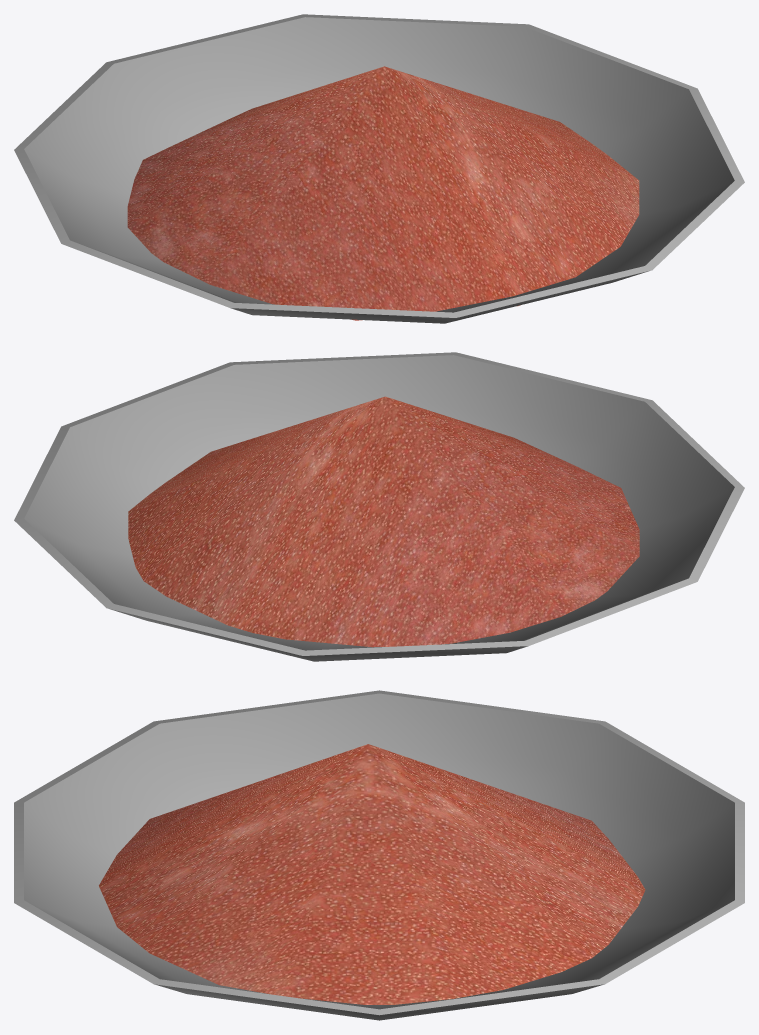
File: mercuric acid.fbx
The picture shows the model from 3 angles, top to bottom: view 1: azimuth 30°, elevation 25°; view 2: azimuth 150°, elevation 25°; view 3: azimuth 270°, elevation 25°; orthographic projection. The views are drawn at different scales.
Visible parts, largest first — view 1: pCone2, pSphere2; view 2: pCone2, pSphere2; view 3: pCone2, pSphere2.
Part boxes in pixels (box(x1,y1,x2,y2)): pCone2: box(127, 66, 639, 320); pSphere2: box(14, 14, 744, 323); pCone2: box(128, 396, 639, 647); pSphere2: box(14, 352, 744, 661); pCone2: box(99, 744, 645, 1004); pSphere2: box(14, 690, 744, 1020).
Bounding box in the file's own units: 48.78 × 12.52 × 46.4.
2 materials, 1 textured.
